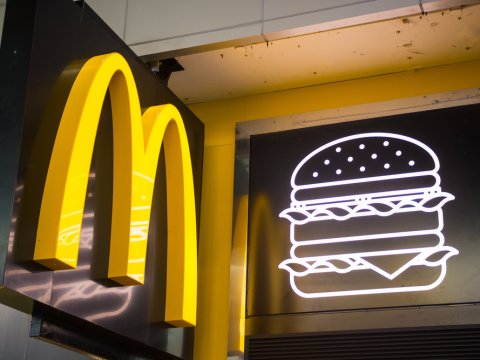mcdonalds: (32, 49, 196, 328)
